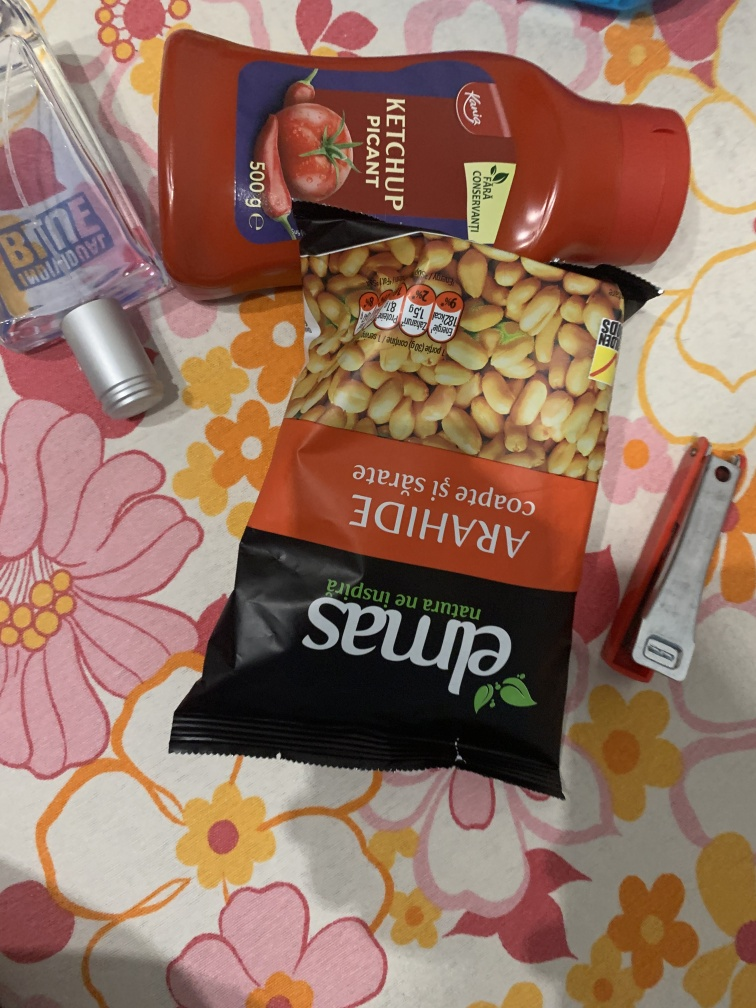ketchup: (138, 24, 709, 306)
peanuts: (199, 200, 661, 810)
